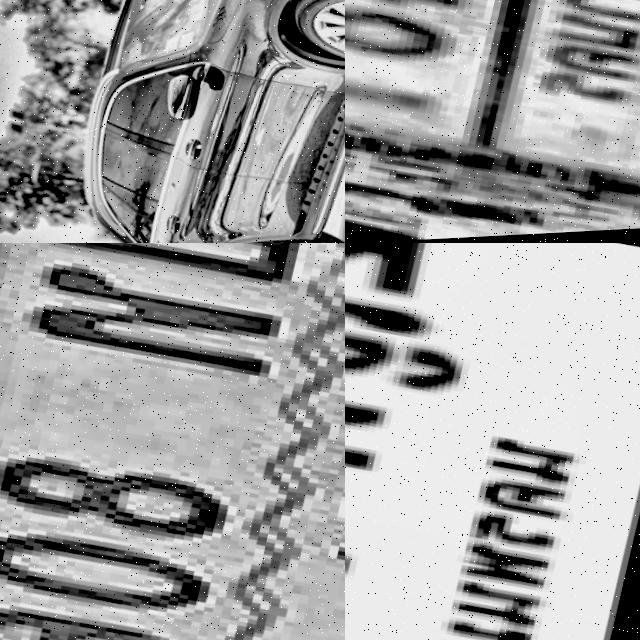license-plate: (0, 243, 345, 640), (345, 243, 640, 640), (345, 0, 640, 243)
